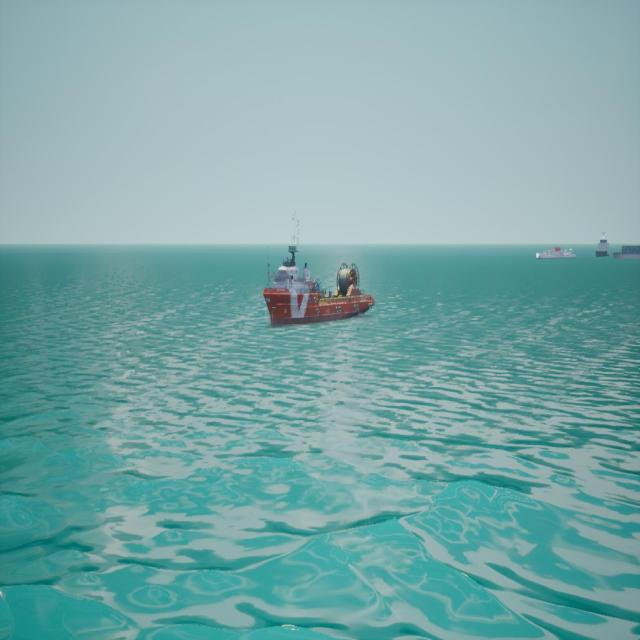tug boat: (262, 214, 376, 329)
